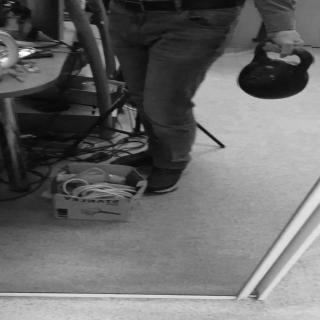kettlebell: (235, 38, 318, 101)
